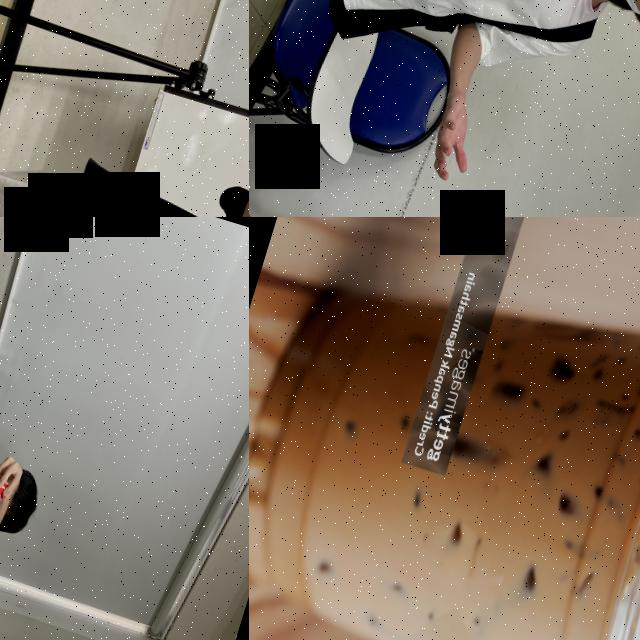can: (0, 465, 13, 547)
cup: (249, 217, 640, 640)
